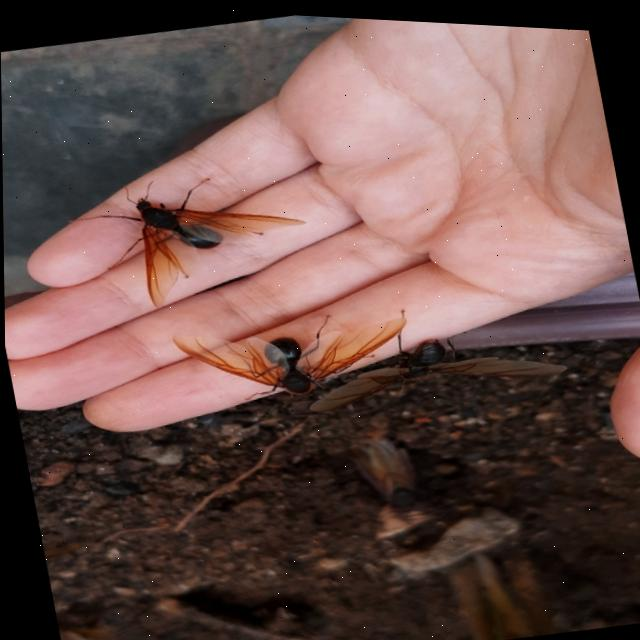Alive-Male-Alate: (60, 149, 319, 326), (292, 273, 571, 421), (170, 291, 418, 418)
